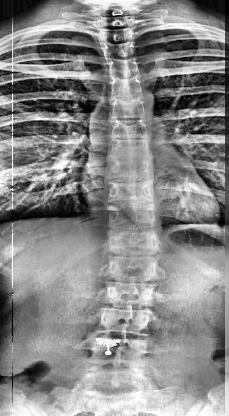Vertebrae: (89, 334, 160, 362), (96, 305, 162, 333), (100, 161, 167, 185), (98, 136, 162, 160), (101, 184, 163, 208), (100, 280, 158, 302), (105, 231, 165, 252), (106, 256, 166, 276), (106, 112, 154, 134), (97, 38, 146, 56), (101, 58, 149, 76), (101, 212, 161, 226), (106, 92, 152, 110), (98, 24, 138, 44), (105, 74, 151, 90)
